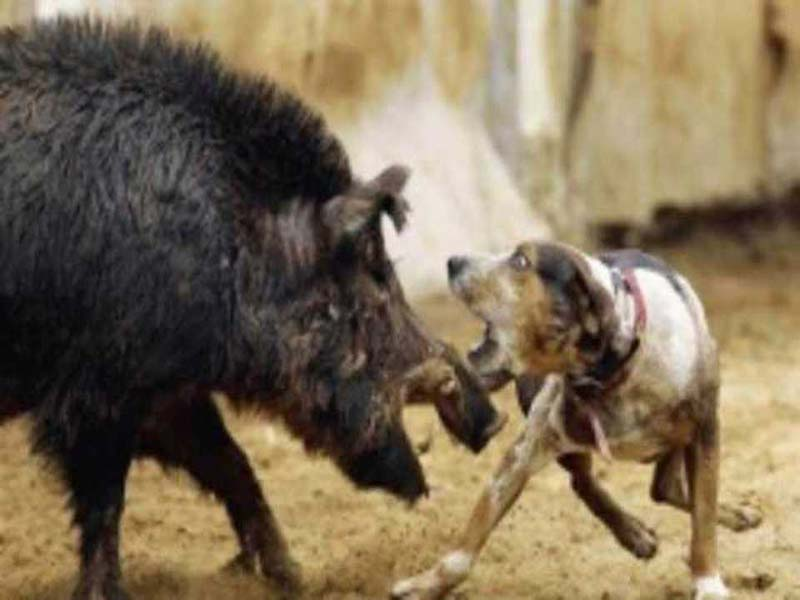cane da caccia: (434, 226, 726, 595)
cinghiale: (1, 10, 443, 599)
